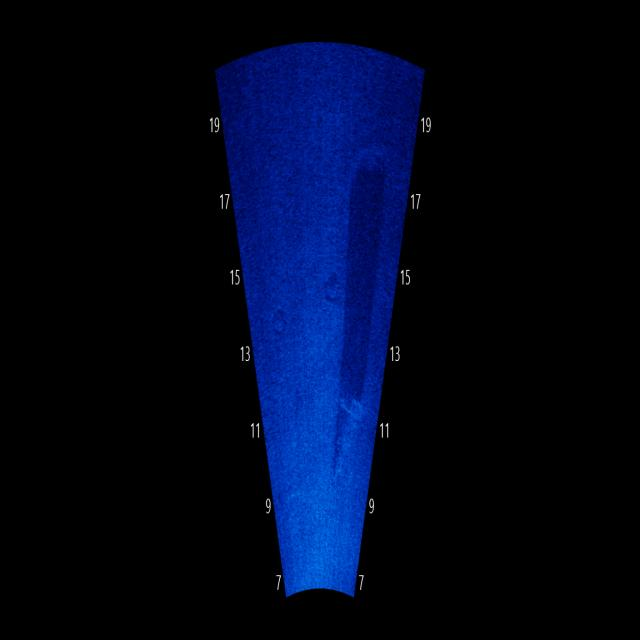circle: (322, 267, 345, 312), (271, 305, 288, 341)
triangle: (332, 382, 364, 490)
